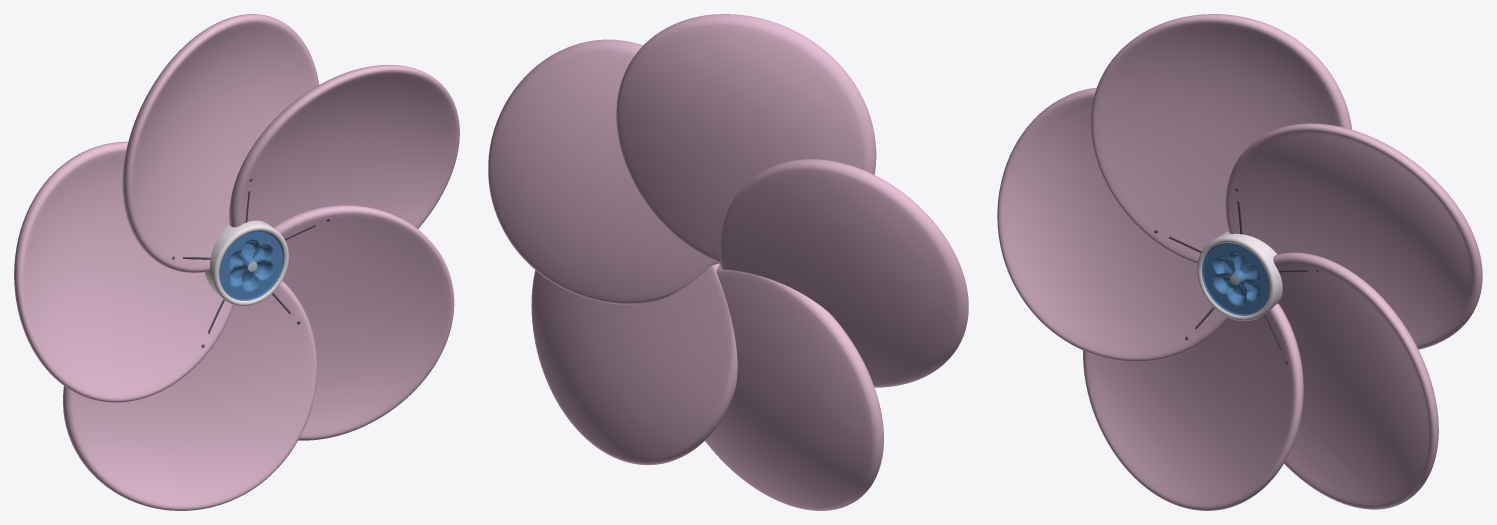
Rendered from flower.glb.
3 renders of one model, left to right at view 1: azimuth 30°, elevation 25°; view 2: azimuth 150°, elevation 25°; view 3: azimuth 330°, elevation 25°, orthographic. The views are drawn at different scales.
Parts seen in each view (by area): view 1: Flower; view 2: Flower; view 3: Flower.
Boxes of the visible parts, box(x1,y1,x2,y2) form: Flower: box(14, 14, 459, 510); Flower: box(488, 14, 968, 510); Flower: box(997, 14, 1482, 510).
Size of the model in its own units: 1.94 by 1.94 by 0.2685.
